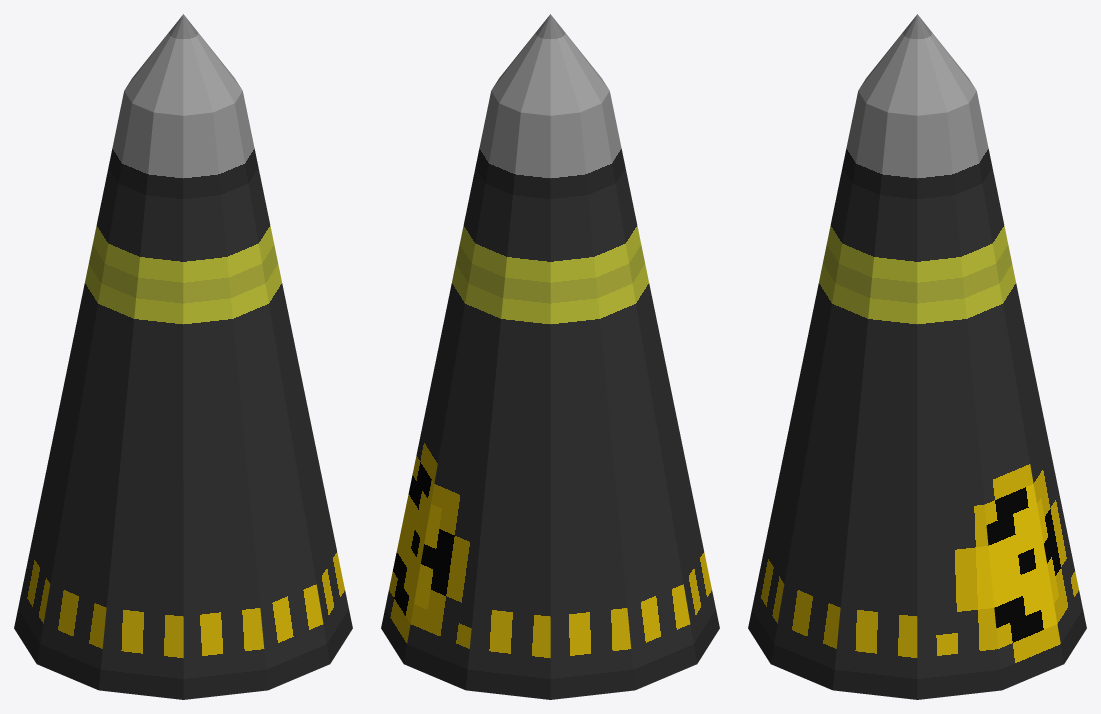
File: mp_w_10_nuclear.obj
The picture shows the model from 3 angles, left to right: view 1: azimuth 30°, elevation 25°; view 2: azimuth 150°, elevation 25°; view 3: azimuth 270°, elevation 25°; orthographic projection.
Visible parts, largest first — view 1: Cone; view 2: Cone; view 3: Cone.
Boxes of the visible parts, <box> form: Cone: <box>14,14,352,699</box>; Cone: <box>381,14,719,699</box>; Cone: <box>748,14,1086,699</box>.
Bounding box in the file's own units: 1 × 2 × 1.
